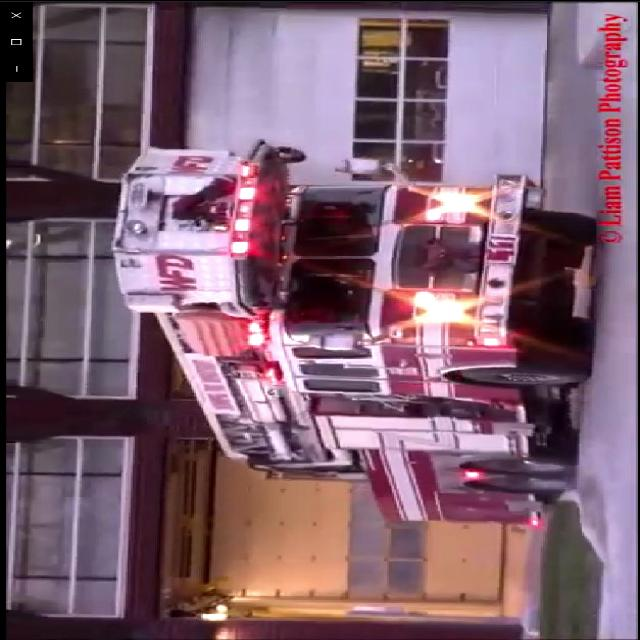emergency: (101, 131, 608, 537)
